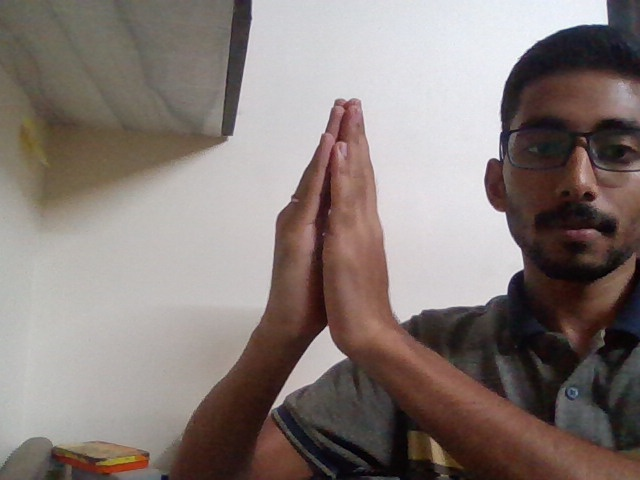Thank You: (243, 79, 419, 386)
